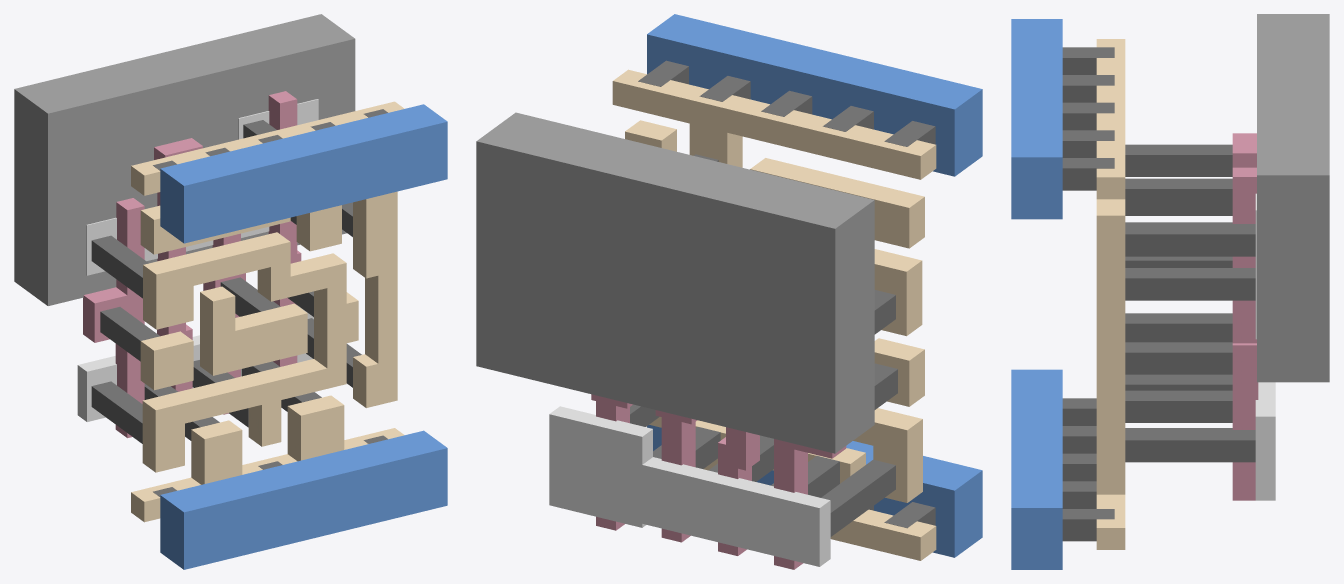
File: sky130_fd_sc_hd__or3_1.gds.gltf
The picture shows the model from 3 angles, left to right: view 1: azimuth 30°, elevation 25°; view 2: azimuth 150°, elevation 25°; view 3: azimuth 270°, elevation 25°; orthographic projection. The views are drawn at different scales.
Visible parts, largest first — view 1: sky130_fd_sc_hd__or3_1_li1, sky130_fd_sc_hd__or3_1_met1, sky130_fd_sc_hd__or3_1_nwell, sky130_fd_sc_hd__or3_1_licon, sky130_fd_sc_hd__or3_1_poly, sky130_fd_sc_hd__or3_1_diff, sky130_fd_sc_hd__or3_1_mcon; view 2: sky130_fd_sc_hd__or3_1_nwell, sky130_fd_sc_hd__or3_1_li1, sky130_fd_sc_hd__or3_1_met1, sky130_fd_sc_hd__or3_1_diff, sky130_fd_sc_hd__or3_1_licon, sky130_fd_sc_hd__or3_1_poly, sky130_fd_sc_hd__or3_1_mcon; view 3: sky130_fd_sc_hd__or3_1_licon, sky130_fd_sc_hd__or3_1_nwell, sky130_fd_sc_hd__or3_1_met1, sky130_fd_sc_hd__or3_1_li1, sky130_fd_sc_hd__or3_1_mcon, sky130_fd_sc_hd__or3_1_poly, sky130_fd_sc_hd__or3_1_diff.
Part boxes in pixels (<box>): sky130_fd_sc_hd__or3_1_li1: <box>131,101,404,522</box>; sky130_fd_sc_hd__or3_1_met1: <box>160,104,447,569</box>; sky130_fd_sc_hd__or3_1_nwell: <box>14,14,355,305</box>; sky130_fd_sc_hd__or3_1_licon: <box>91,120,361,443</box>; sky130_fd_sc_hd__or3_1_poly: <box>83,91,301,438</box>; sky130_fd_sc_hd__or3_1_diff: <box>77,99,318,421</box>; sky130_fd_sc_hd__or3_1_mcon: <box>153,109,387,496</box>; sky130_fd_sc_hd__or3_1_nwell: <box>476,112,874,453</box>; sky130_fd_sc_hd__or3_1_li1: <box>612,69,936,560</box>; sky130_fd_sc_hd__or3_1_met1: <box>647,14,982,557</box>; sky130_fd_sc_hd__or3_1_diff: <box>549,406,830,566</box>; sky130_fd_sc_hd__or3_1_licon: <box>630,154,897,536</box>; sky130_fd_sc_hd__or3_1_poly: <box>591,394,846,569</box>; sky130_fd_sc_hd__or3_1_mcon: <box>638,60,935,528</box>; sky130_fd_sc_hd__or3_1_licon: <box>1125,144,1255,462</box>; sky130_fd_sc_hd__or3_1_nwell: <box>1257,14,1329,382</box>; sky130_fd_sc_hd__or3_1_met1: <box>1011,19,1062,569</box>; sky130_fd_sc_hd__or3_1_li1: <box>1096,39,1125,549</box>; sky130_fd_sc_hd__or3_1_mcon: <box>1062,47,1114,541</box>; sky130_fd_sc_hd__or3_1_poly: <box>1232,133,1258,500</box>; sky130_fd_sc_hd__or3_1_diff: <box>1255,193,1275,500</box>.
Bounding box in the file's own units: 2.68 × 3.2 × 2.24.
